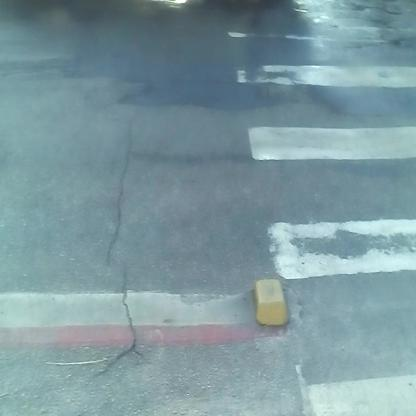crosswalk: (219, 15, 416, 416)
